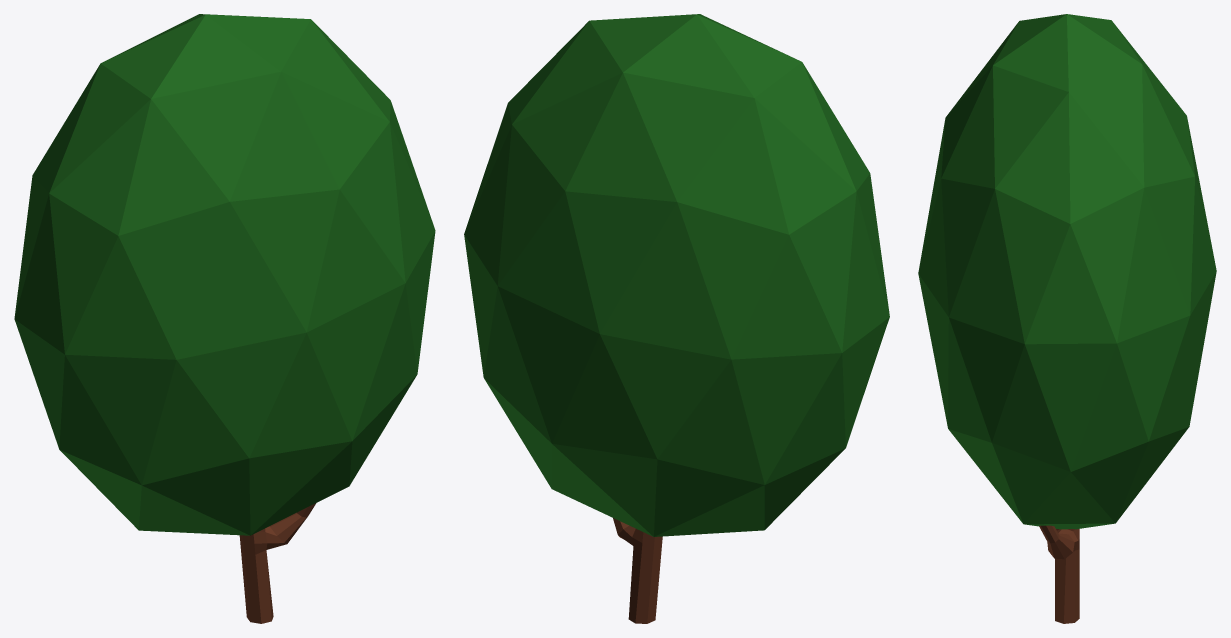
The model's file is bush1.fbx.
3 renders of one model, left to right at view 1: azimuth 30°, elevation 25°; view 2: azimuth 150°, elevation 25°; view 3: azimuth 270°, elevation 25°, orthographic. The views are drawn at different scales.
Visible parts, largest first — view 1: Cylinder.005; view 2: Cylinder.005; view 3: Cylinder.005.
Boxes of the visible parts, left/top/right/bottom form: Cylinder.005: left=14, top=14, right=435, bottom=623; Cylinder.005: left=464, top=14, right=889, bottom=623; Cylinder.005: left=918, top=14, right=1216, bottom=623.
Size of the model in its own units: 316 by 496 by 231.
